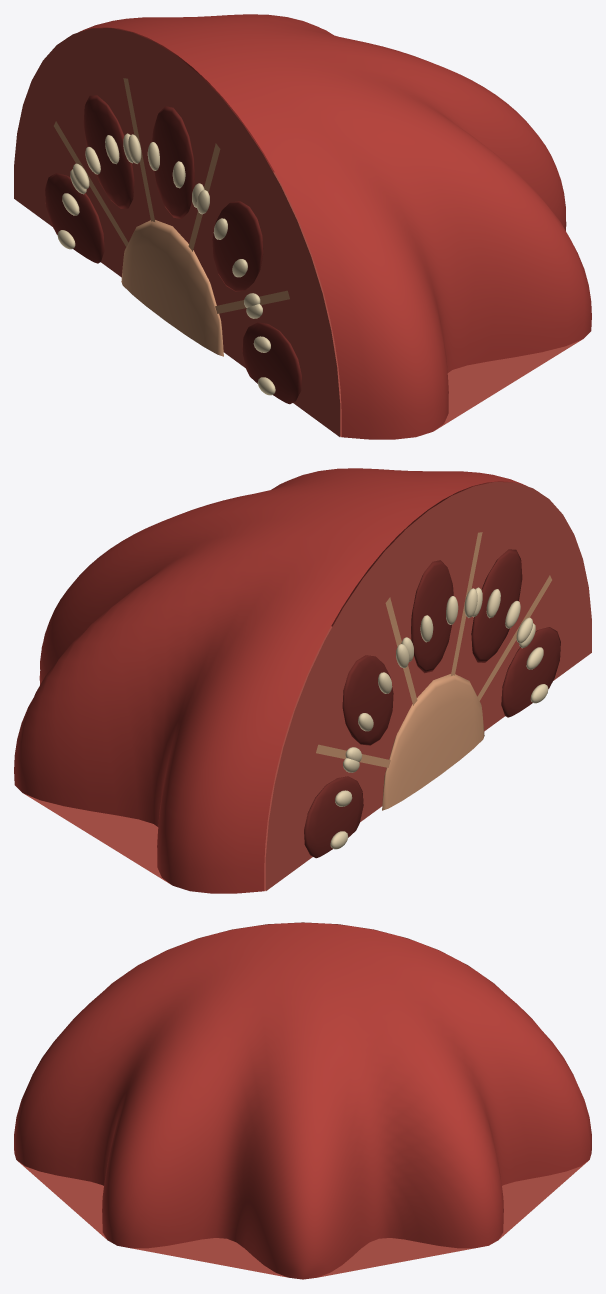
File: event_giant_wedge.glb
The picture shows the model from 3 angles, top to bottom: view 1: azimuth 30°, elevation 25°; view 2: azimuth 150°, elevation 25°; view 3: azimuth 270°, elevation 25°; orthographic projection. The views are drawn at different scales.
Visible parts, largest first — view 1: Giant Giant ribbed oxblood skin / Giant moist vermilion fles, Giant Giant moist vermilion flesh, Giant Nine deep crimson chambers, Giant Broad peach pith and septa / Giant moist vermilion fle, Giant Nine deep crimson chambers / Giant moist vermilion fle, Giant Large ivory heirloom seeds, Giant Broad peach pith and septa; view 2: Giant Giant ribbed oxblood skin / Giant moist vermilion fles, Giant Giant moist vermilion flesh, Giant Nine deep crimson chambers, Giant Broad peach pith and septa / Giant moist vermilion fle, Giant Nine deep crimson chambers / Giant moist vermilion fle, Giant Large ivory heirloom seeds, Giant Broad peach pith and septa; view 3: Giant Giant ribbed oxblood skin / Giant moist vermilion fles.
Boxes of the visible parts, left/top/right/bottom form: Giant Giant ribbed oxblood skin / Giant moist vermilion fles: left=78, top=14, right=591, bottom=439; Giant Giant moist vermilion flesh: left=14, top=28, right=340, bottom=436; Giant Nine deep crimson chambers: left=83, top=95, right=263, bottom=291; Giant Broad peach pith and septa / Giant moist vermilion fle: left=121, top=220, right=223, bottom=356; Giant Nine deep crimson chambers / Giant moist vermilion fle: left=45, top=173, right=301, bottom=404; Giant Large ivory heirloom seeds: left=57, top=133, right=275, bottom=395; Giant Broad peach pith and septa: left=54, top=78, right=289, bottom=313; Giant Giant ribbed oxblood skin / Giant moist vermilion fles: left=14, top=468, right=527, bottom=893; Giant Giant moist vermilion flesh: left=265, top=482, right=591, bottom=890; Giant Nine deep crimson chambers: left=342, top=549, right=522, bottom=745; Giant Broad peach pith and septa / Giant moist vermilion fle: left=382, top=674, right=484, bottom=810; Giant Nine deep crimson chambers / Giant moist vermilion fle: left=304, top=627, right=560, bottom=858; Giant Large ivory heirloom seeds: left=330, top=587, right=548, bottom=849; Giant Broad peach pith and septa: left=316, top=532, right=551, bottom=767; Giant Giant ribbed oxblood skin / Giant moist vermilion fles: left=14, top=923, right=591, bottom=1279.
Bounding box in the file's own units: 0.9916 × 0.62 × 1.56.
